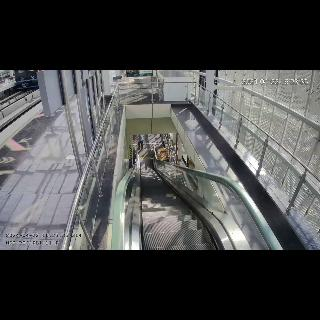normal: (138, 136, 144, 150)
